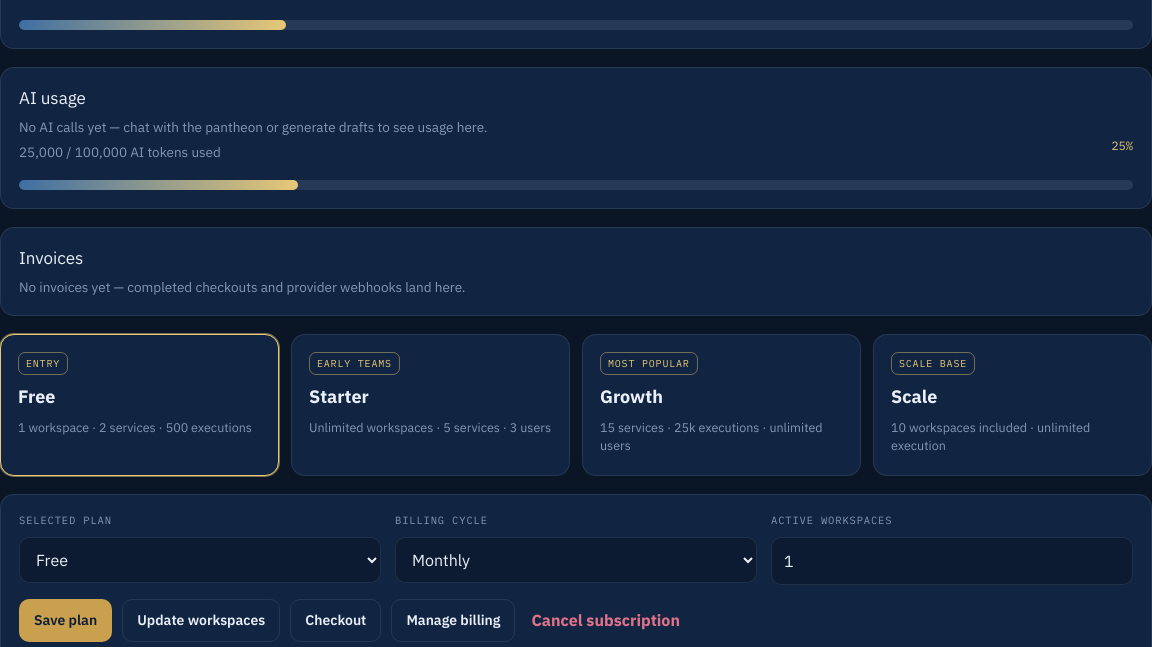
it: BillingScreen › checks out (start + confirm) to ACTIVE
(page scrolled)
Click the button "Checkout".
click(336, 620)  # box [290,598,381,642]
(page scrolled)
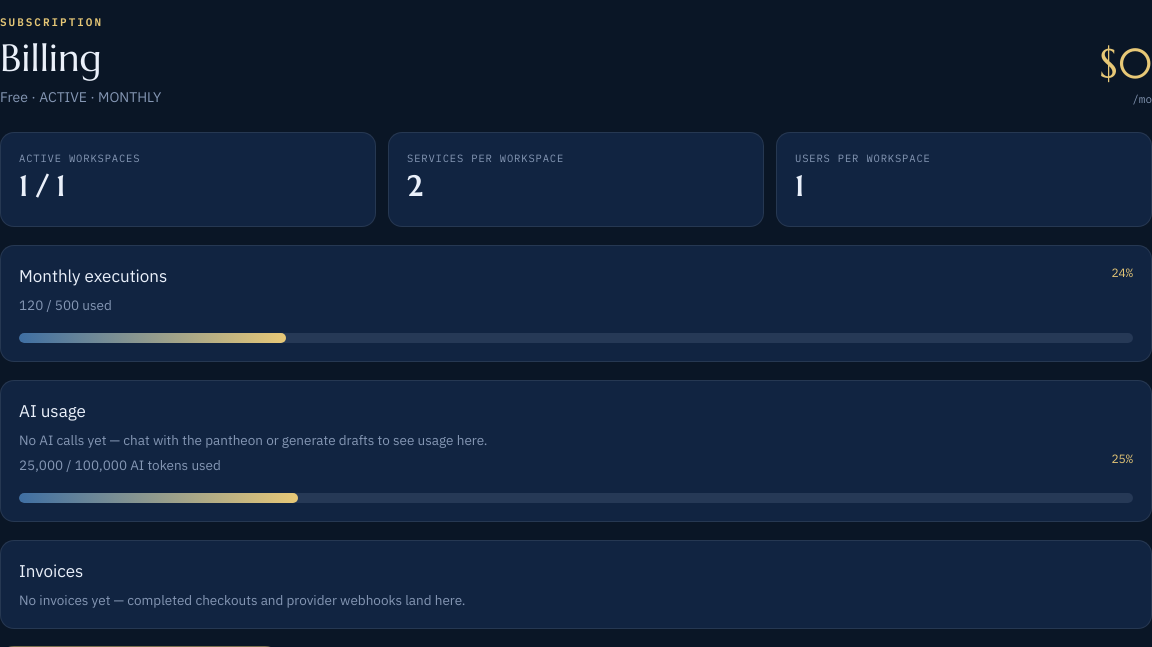
Check: the text "Free · ACTIVE · MONTHLY" is shown, box [0,86,161,108]
